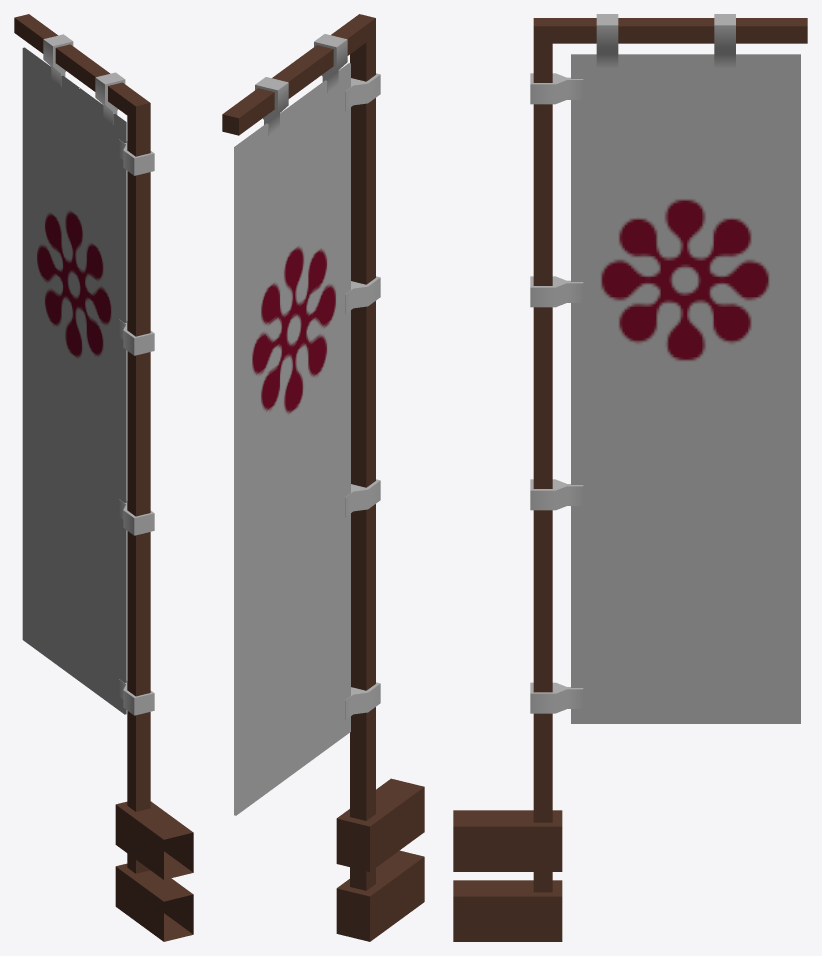
The model's file is Flag.fbx.
3 renders of one model, left to right at view 1: azimuth 30°, elevation 25°; view 2: azimuth 150°, elevation 25°; view 3: azimuth 270°, elevation 25°, orthographic. The views are drawn at different scales.
Visible parts, largest first — view 1: Flag; view 2: Flag; view 3: Flag.
Boxes of the visible parts, x1,y1,x2,y2 form: Flag: [14, 14, 193, 941]; Flag: [222, 14, 424, 941]; Flag: [453, 14, 807, 941].
Size of the model in its own units: 0.0607 by 1.58 by 0.5559.
